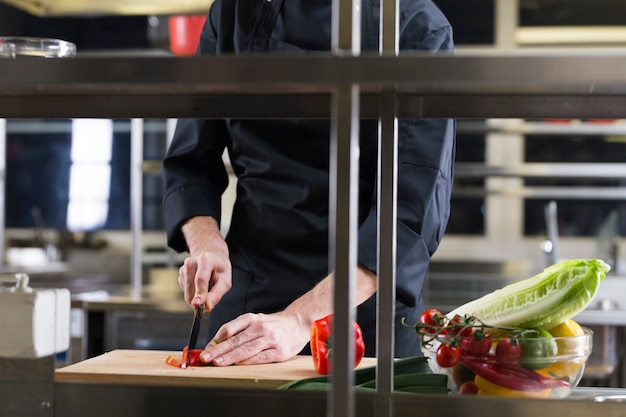knife: (186, 301, 206, 370)
